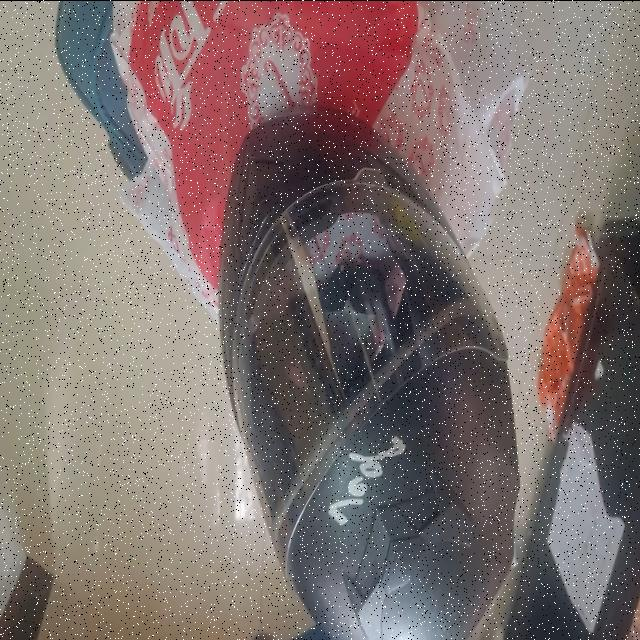Helmet: (217, 104, 521, 640)
